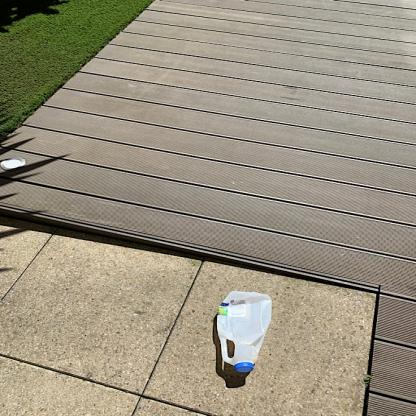trash: (209, 288, 276, 375)
